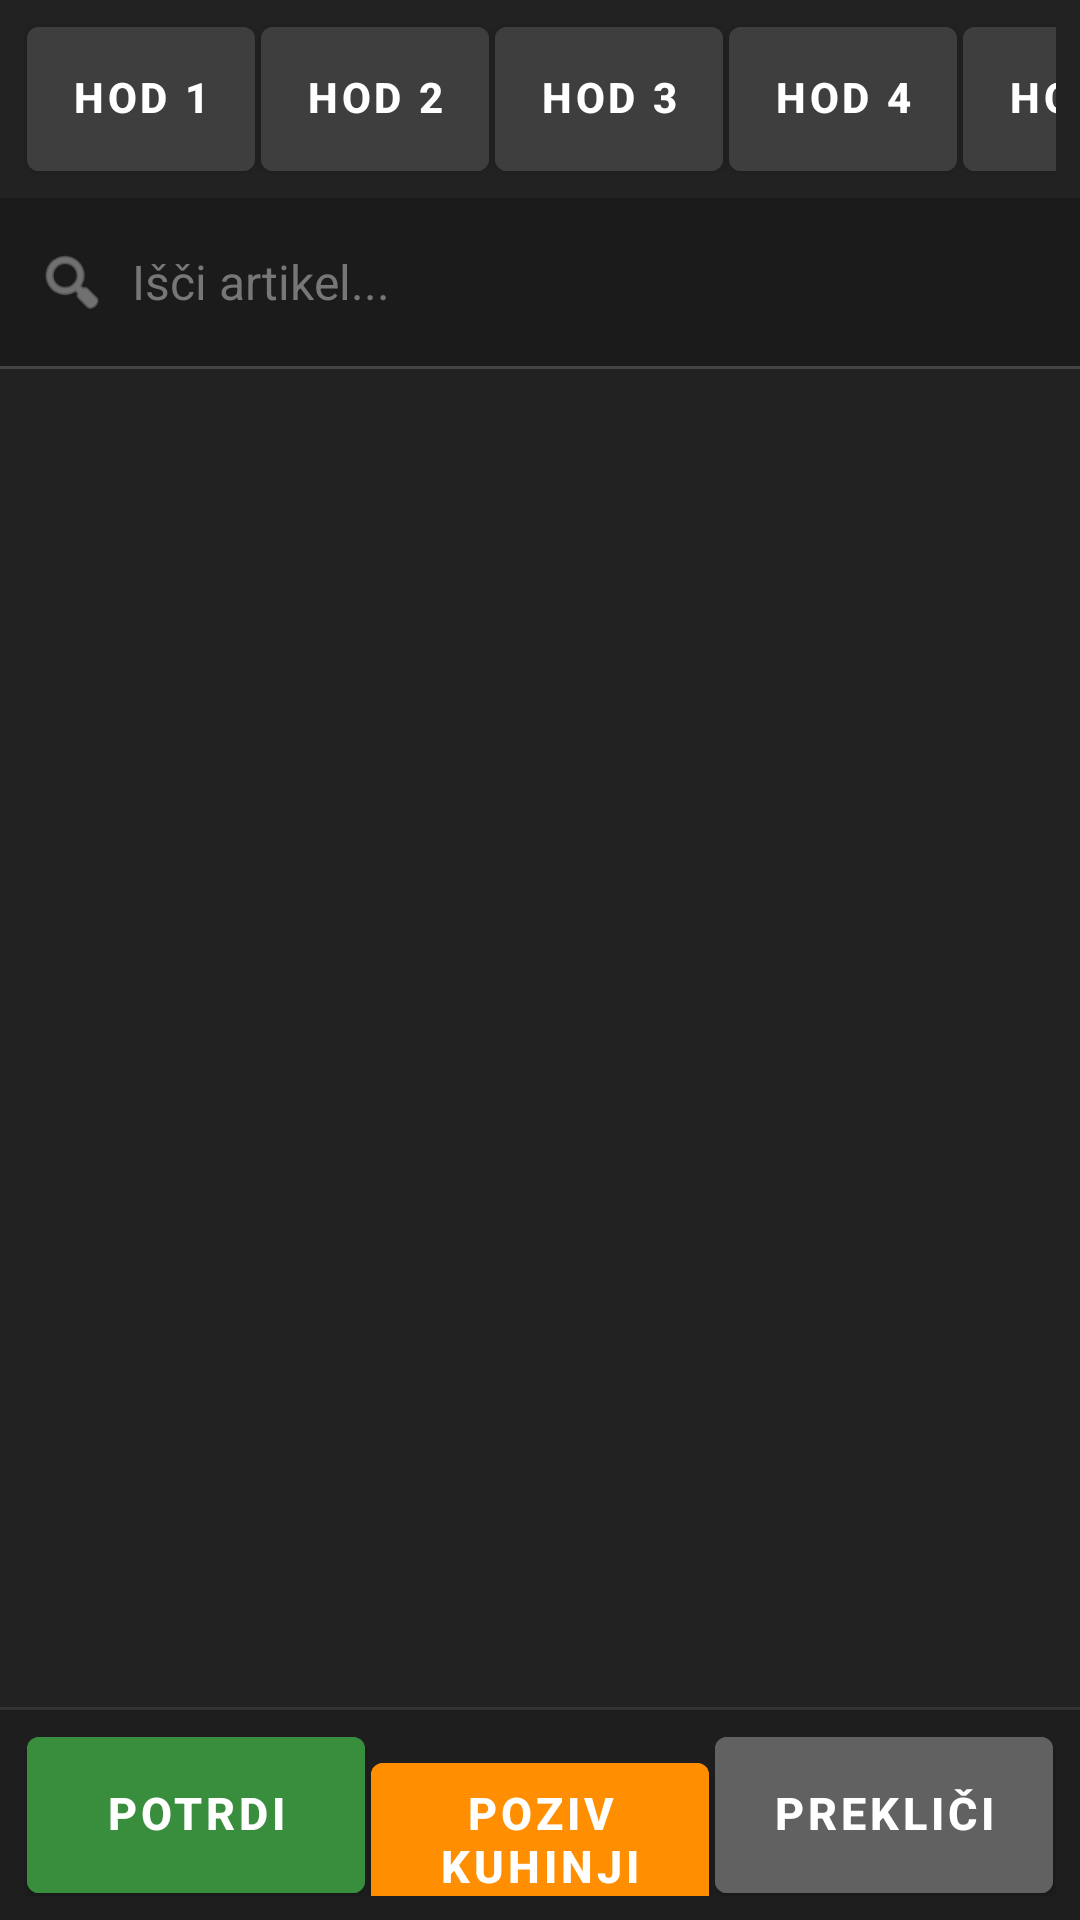

Point at icon controls on the screen. Image size 1080*1920, points as (x,y).
search: (72,282)
